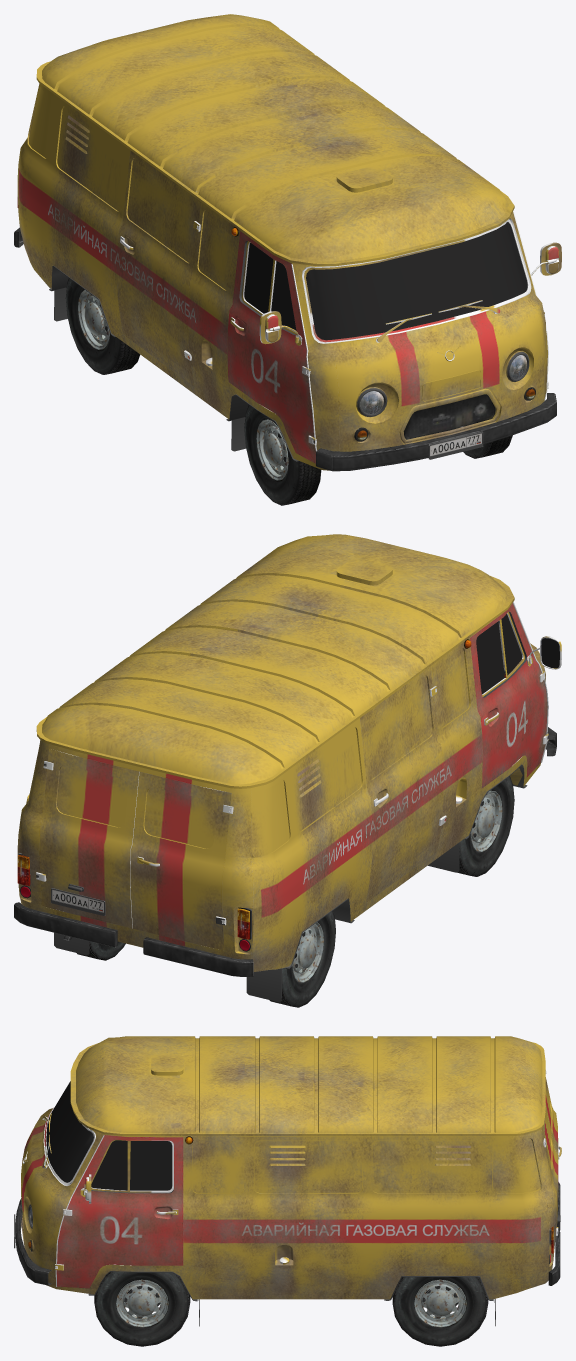
The model's file is uaz_buhanka.glb.
3 renders of one model, top to bottom at view 1: azimuth 30°, elevation 25°; view 2: azimuth 150°, elevation 25°; view 3: azimuth 270°, elevation 25°, orthographic. The views are drawn at different scales.
Parts seen in each view (by area): view 1: Object_10, Object_7, Object_15, Object_18, Object_12, Object_9, Object_5, Object_11, Object_16, Object_6, Object_3, Object_2; view 2: Object_10, Object_15, Object_18, Object_11, Object_7, Object_9, Object_16, Object_12, Object_3; view 3: Object_10, Object_15, Object_7, Object_9, Object_18, Object_12, Object_11.
Boxes of the visible parts, x1,y1,x2,y2 form: Object_10: (17,14,547,470); Object_7: (244,222,527,340); Object_15: (65,278,512,505); Object_18: (14,227,556,471); Object_12: (120,219,561,365); Object_9: (78,289,288,480); Object_5: (403,394,495,439); Object_11: (49,240,298,461); Object_16: (17,197,535,441); Object_6: (302,218,531,343); Object_3: (428,431,483,459); Object_2: (291,210,548,451); Object_10: (17,534,547,971); Object_15: (77,776,514,1007); Object_18: (14,727,556,976); Object_11: (54,611,527,1002); Object_7: (476,614,559,694); Object_9: (292,790,502,982); Object_16: (17,639,471,951); Object_12: (137,612,561,866); Object_3: (51,888,105,915); Object_10: (21,1036,558,1299); Object_15: (94,1271,488,1346); Object_7: (46,1081,172,1190); Object_9: (116,1279,466,1327); Object_18: (15,1182,560,1306); Object_12: (42,1106,561,1264); Object_11: (88,1189,560,1326).
Bounding box in the file's own units: 1.56 × 1.42 × 2.94.
17 materials, 10 textured.
